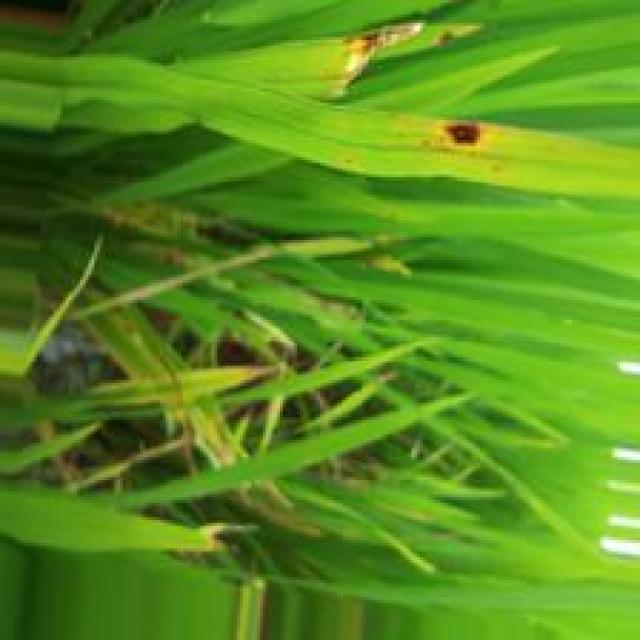Brown_Spot: (435, 118, 490, 154)
